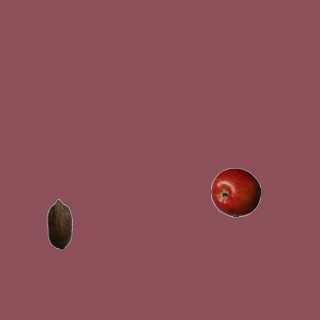Apple Braeburn: (210, 167, 260, 217)
Nut Pecan: (34, 198, 84, 248)
